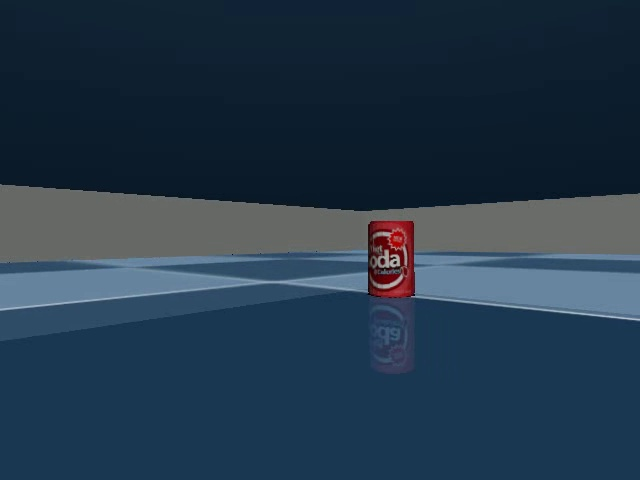can: (361, 214, 423, 303)
